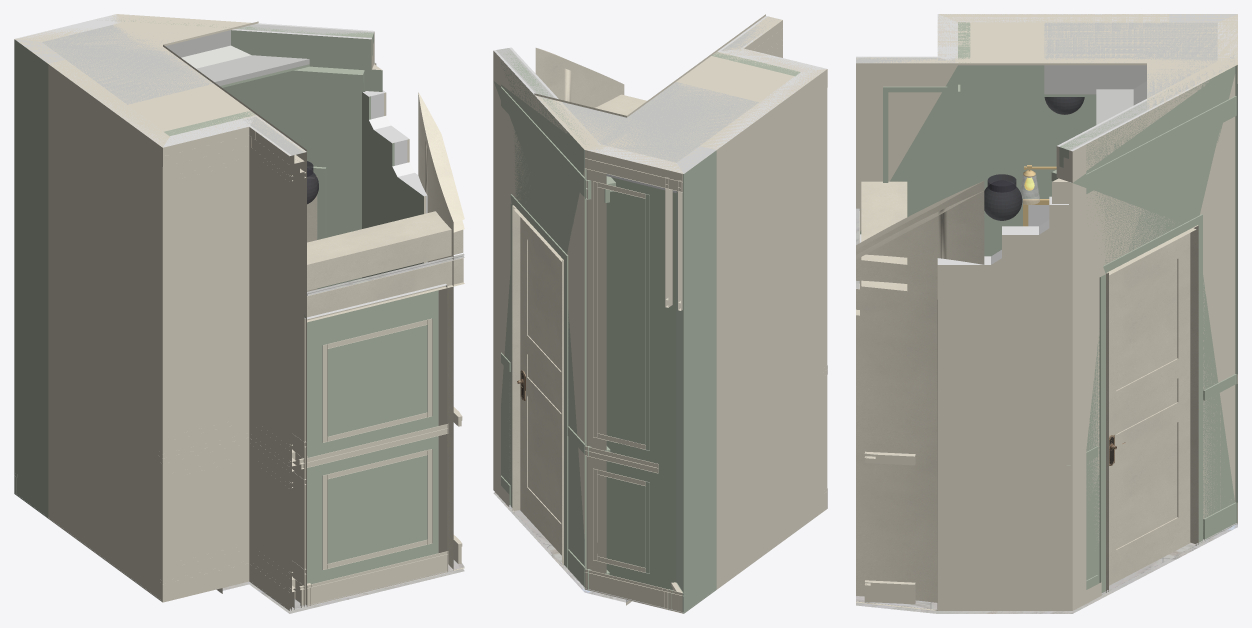
File: powder-room-22071e1e0a44.glb
3 views of the same model, side by side, from view 1: azimuth 30°, elevation 25°; view 2: azimuth 150°, elevation 25°; view 3: azimuth 270°, elevation 25° (orthographic). The views are drawn at different scales.
Visible parts, largest first — view 1: powder-room-d33eebe572d154f2, powder-room-1a8091885ac212af, powder-room-ab5cb5e7d303dd66, powder-room-85f0fd939e0fcc78, powder-room-9b21989b25895c4a, powder-room-a5eabba2ad6474eb, powder-room-2575515a05775d9e, powder-room-5b07a8f5f7929ff6, powder-room-ca6eafacc0f493ac, powder-room-3d7935a3f1355396, powder-room-261aa5c5ae0f77af, powder-room-b74e3495b7e70350 (+11 smaller); view 2: powder-room-d33eebe572d154f2, powder-room-a5eabba2ad6474eb, powder-room-b2b5f93b4255576d, powder-room-9b21989b25895c4a, powder-room-539cd4ce99668665, powder-room-2575515a05775d9e, powder-room-5b07a8f5f7929ff6, powder-room-86d6fc7292b21ae1, powder-room-ae2ab6de1156d266, powder-room-48dc2409da547ff7, powder-room-b74e3495b7e70350, powder-room-f5fbb4dd3b92b4c5 (+14 smaller); view 3: powder-room-d65b0a574c2ac13c, powder-room-a5eabba2ad6474eb, powder-room-b74e3495b7e70350, powder-room-539cd4ce99668665, powder-room-2575515a05775d9e, powder-room-d33eebe572d154f2, powder-room-85f0fd939e0fcc78, powder-room-5b07a8f5f7929ff6, powder-room-48dc2409da547ff7, powder-room-86d6fc7292b21ae1, powder-room-48dd1d74e06d76de, powder-room-ca6eafacc0f493ac (+17 smaller).
Part boxes in pixels (bbox=[...]): powder-room-d33eebe572d154f2: bbox=[48, 60, 167, 601]; powder-room-1a8091885ac212af: bbox=[163, 116, 255, 602]; powder-room-ab5cb5e7d303dd66: bbox=[306, 283, 447, 605]; powder-room-85f0fd939e0fcc78: bbox=[243, 115, 306, 610]; powder-room-9b21989b25895c4a: bbox=[14, 39, 64, 518]; powder-room-a5eabba2ad6474eb: bbox=[97, 14, 382, 286]; powder-room-2575515a05775d9e: bbox=[14, 14, 306, 155]; powder-room-5b07a8f5f7929ff6: bbox=[42, 24, 309, 104]; powder-room-ca6eafacc0f493ac: bbox=[307, 211, 463, 290]; powder-room-3d7935a3f1355396: bbox=[362, 92, 426, 278]; powder-room-261aa5c5ae0f77af: bbox=[306, 257, 464, 322]; powder-room-b74e3495b7e70350: bbox=[418, 103, 464, 570]; powder-room-d33eebe572d154f2: bbox=[701, 69, 827, 589]; powder-room-a5eabba2ad6474eb: bbox=[493, 47, 606, 589]; powder-room-b2b5f93b4255576d: bbox=[584, 145, 683, 593]; powder-room-9b21989b25895c4a: bbox=[676, 146, 716, 613]; powder-room-539cd4ce99668665: bbox=[520, 217, 561, 555]; powder-room-2575515a05775d9e: bbox=[534, 14, 826, 173]; powder-room-5b07a8f5f7929ff6: bbox=[562, 82, 758, 162]; powder-room-86d6fc7292b21ae1: bbox=[512, 205, 563, 565]; powder-room-ae2ab6de1156d266: bbox=[593, 181, 649, 450]; powder-room-48dc2409da547ff7: bbox=[510, 194, 568, 567]; powder-room-b74e3495b7e70350: bbox=[535, 57, 624, 107]; powder-room-f5fbb4dd3b92b4c5: bbox=[585, 569, 682, 613]; powder-room-d65b0a574c2ac13c: bbox=[937, 204, 1068, 610]; powder-room-a5eabba2ad6474eb: bbox=[1052, 54, 1235, 610]; powder-room-b74e3495b7e70350: bbox=[856, 191, 984, 610]; powder-room-539cd4ce99668665: bbox=[1109, 233, 1190, 585]; powder-room-2575515a05775d9e: bbox=[856, 14, 1237, 110]; powder-room-d33eebe572d154f2: bbox=[938, 14, 1169, 256]; powder-room-85f0fd939e0fcc78: bbox=[856, 56, 957, 234]; powder-room-5b07a8f5f7929ff6: bbox=[1044, 22, 1217, 124]; powder-room-48dc2409da547ff7: bbox=[1099, 214, 1202, 594]; powder-room-86d6fc7292b21ae1: bbox=[1106, 225, 1198, 592]; powder-room-48dd1d74e06d76de: bbox=[1086, 96, 1236, 193]; powder-room-ca6eafacc0f493ac: bbox=[861, 181, 907, 290].
Size of the model in its own units: 1.92 by 3.05 by 2.26.
Materials: 28 (5 with a texture image).
